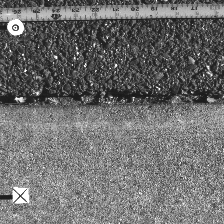circle: (7, 19, 24, 35)
crack: (1, 93, 223, 105)
square: (12, 187, 29, 204)
